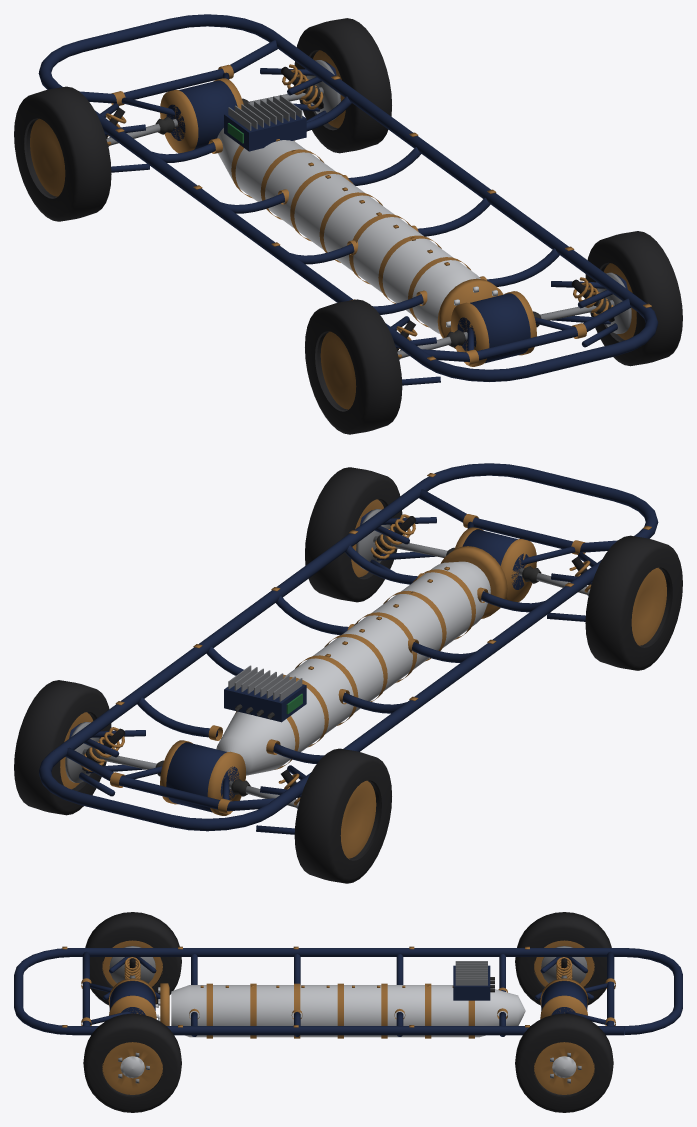
Rendered from carrow_k28.glb.
3 renders of one model, top to bottom at view 1: azimuth 30°, elevation 25°; view 2: azimuth 150°, elevation 25°; view 3: azimuth 270°, elevation 25°, orthographic. The views are drawn at different scales.
Parts seen in each view (by area): view 1: keel, gunwale, wheel_FL, wheel_BL, wheel_FR, wheel_BR, motor_B, motor_F, controller, bulkhead_B, bulkhead_F, corner_BR (+10 smaller); view 2: keel, gunwale, wheel_FL, wheel_BL, wheel_BR, wheel_FR, motor_F, motor_B, controller, bulkhead_F, bulkhead_B, corner_BR (+10 smaller); view 3: keel, gunwale, wheel_FR, wheel_BR, wheel_FL, wheel_BL, controller, motor_F, motor_B, corner_FL, corner_BL, bulkhead_F (+2 smaller).
Boxes of the visible parts, box(x1,y1,x2,y2) form: keel: box(217, 128, 480, 333); gunwale: box(38, 14, 658, 381); wheel_FL: box(14, 86, 111, 221); wheel_BL: box(305, 299, 402, 434); wheel_FR: box(294, 18, 391, 153); wheel_BR: box(585, 231, 682, 366); motor_B: box(397, 291, 614, 366); motor_F: box(106, 78, 323, 153); controller: box(224, 95, 306, 151); bulkhead_B: box(421, 298, 630, 365); bulkhead_F: box(79, 40, 277, 115); corner_BR: box(551, 272, 631, 347); keel: box(216, 561, 490, 775); gunwale: box(39, 463, 658, 831); wheel_FL: box(294, 748, 391, 883); wheel_BL: box(585, 535, 682, 670); wheel_BR: box(305, 467, 402, 602); wheel_FR: box(14, 680, 111, 815); motor_F: box(82, 740, 299, 815); motor_B: box(373, 527, 590, 602); controller: box(224, 665, 306, 722); bulkhead_F: box(65, 747, 274, 814); bulkhead_B: box(419, 489, 617, 564); corner_BR: box(356, 509, 436, 572); keel: box(171, 983, 525, 1038); gunwale: box(14, 946, 682, 1035); wheel_FR: box(515, 1013, 613, 1112); wheel_BR: box(83, 1013, 181, 1112); wheel_FL: box(515, 912, 611, 1005); wheel_BL: box(85, 912, 181, 1005); controller: box(453, 961, 494, 1000); motor_F: box(540, 972, 588, 1019); motor_B: box(108, 972, 156, 1019); corner_FL: box(534, 946, 594, 999); corner_BL: box(103, 946, 160, 999); bulkhead_F: box(566, 951, 615, 1025).
Bounding box in the file's own units: 1.76 × 0.64 × 4.34.
